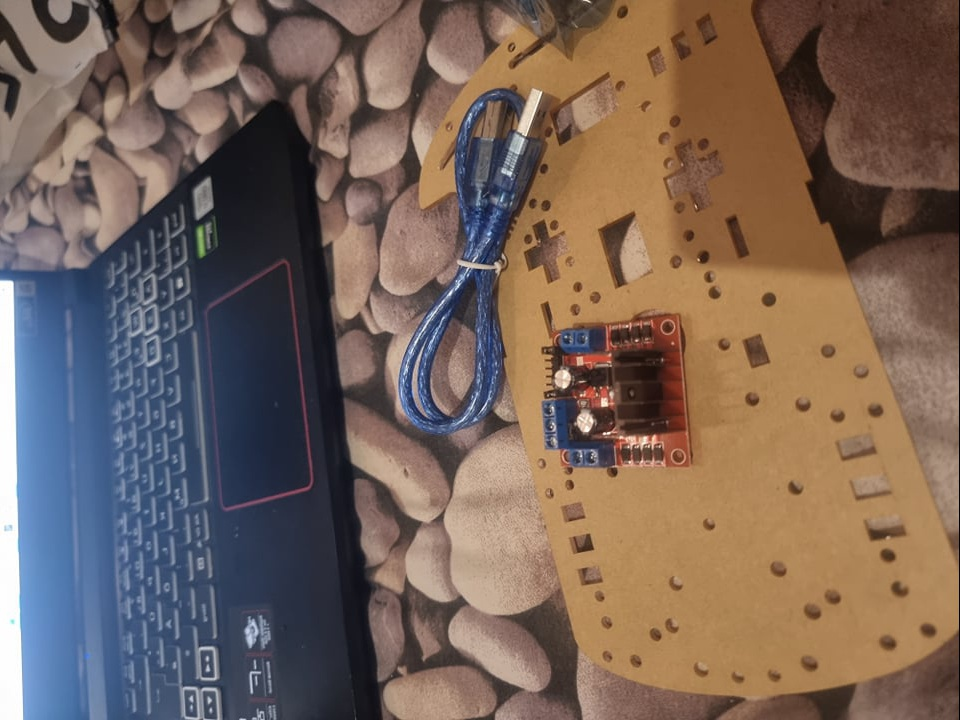MOTOR: (543, 309, 695, 472)
